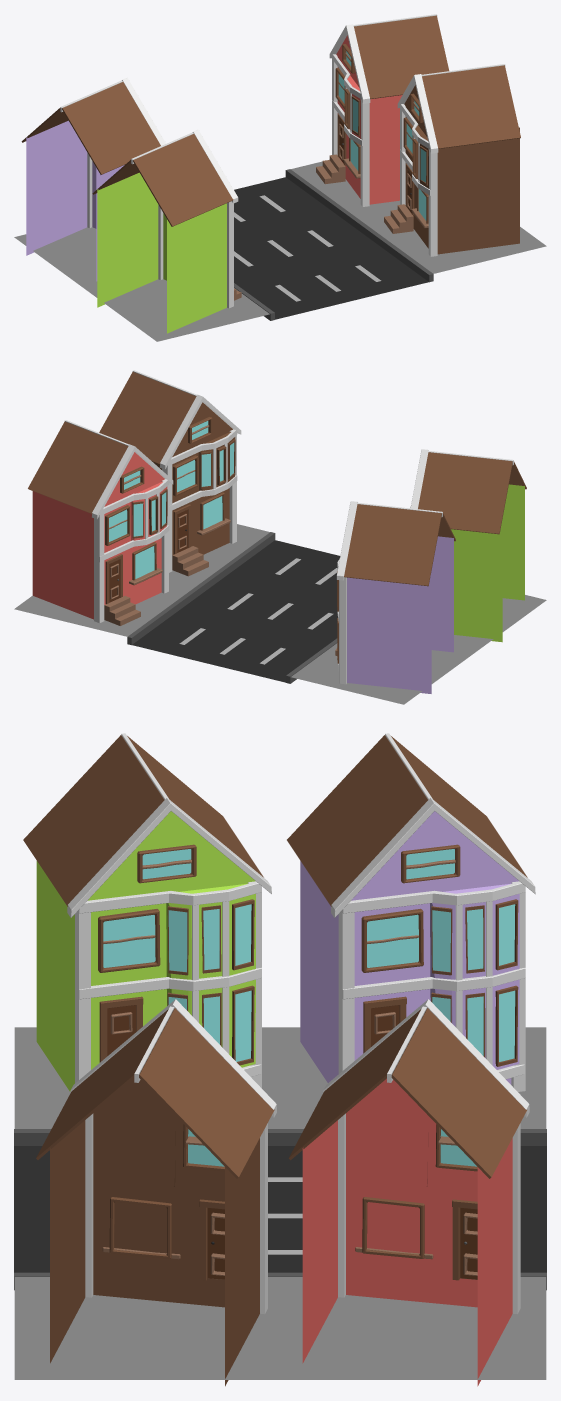
File: RoadTown_1 1.fbx
3 renders of one model, top to bottom at view 1: azimuth 30°, elevation 25°; view 2: azimuth 150°, elevation 25°; view 3: azimuth 270°, elevation 25°, orthographic. The views are drawn at different scales.
Visible parts, largest first — view 1: Road, Walls.002, Walls.004, Walls.003, Roof.004, Plane.059, Roof.002, Roof.003, Roof.001, Plane.002, Walls.001, Beams.001 (+12 smaller); view 2: Road, Walls.003, Walls.001, Walls.002, Roof.003, Roof.002, Roof.001, Roof.004, Plane.002, Plane.059, Beams.001, Beams.004 (+12 smaller); view 3: Plane.002, Walls.001, Walls.004, Walls.003, Walls.002, Roof.004, Roof.001, Roof.002, Roof.003, Beams.003, Beams.002, Road (+19 smaller).
Part boxes in pixels (x1=…): Road: x1=234, y1=177, x2=428, y2=319; Walls.002: x1=97, y1=172, x2=226, y2=333; Walls.004: x1=404, y1=85, x2=519, y2=254; Walls.003: x1=26, y1=120, x2=124, y2=281; Roof.004: x1=422, y1=65, x2=520, y2=148; Plane.059: x1=14, y1=227, x2=269, y2=341; Roof.002: x1=92, y1=134, x2=233, y2=226; Roof.003: x1=21, y1=82, x2=160, y2=174; Roof.001: x1=354, y1=15, x2=449, y2=99; Plane.002: x1=291, y1=159, x2=546, y2=273; Walls.001: x1=336, y1=35, x2=402, y2=204; Beams.001: x1=329, y1=14, x2=437, y2=206; Road: x1=132, y1=540, x2=340, y2=682; Walls.003: x1=347, y1=536, x2=453, y2=693; Walls.001: x1=32, y1=452, x2=167, y2=619; Walls.002: x1=451, y1=484, x2=524, y2=642; Roof.003: x1=344, y1=504, x2=455, y2=586; Roof.002: x1=418, y1=452, x2=526, y2=534; Roof.001: x1=28, y1=421, x2=128, y2=513; Roof.004: x1=99, y1=372, x2=196, y2=463; Plane.002: x1=14, y1=524, x2=269, y2=636; Plane.059: x1=291, y1=595, x2=546, y2=704; Beams.001: x1=65, y1=420, x2=173, y2=623; Beams.004: x1=132, y1=370, x2=241, y2=572; Plane.002: x1=14, y1=1277, x2=546, y2=1379; Walls.001: x1=302, y1=1078, x2=512, y2=1386; Walls.004: x1=50, y1=1078, x2=259, y2=1386; Walls.003: x1=300, y1=811, x2=519, y2=1084; Walls.002: x1=36, y1=811, x2=255, y2=1091; Roof.004: x1=36, y1=1008, x2=274, y2=1178; Roof.001: x1=288, y1=1008, x2=526, y2=1178; Roof.002: x1=23, y1=735, x2=263, y2=906; Roof.003: x1=287, y1=735, x2=527, y2=906; Beams.003: x1=331, y1=733, x2=535, y2=1091; Beams.002: x1=67, y1=733, x2=271, y2=1088; Road: x1=14, y1=1146, x2=546, y2=1272.
Bounding box in the file's own units: 4474 × 1804 × 2782.
Materials: 1 (1 with a texture image).
